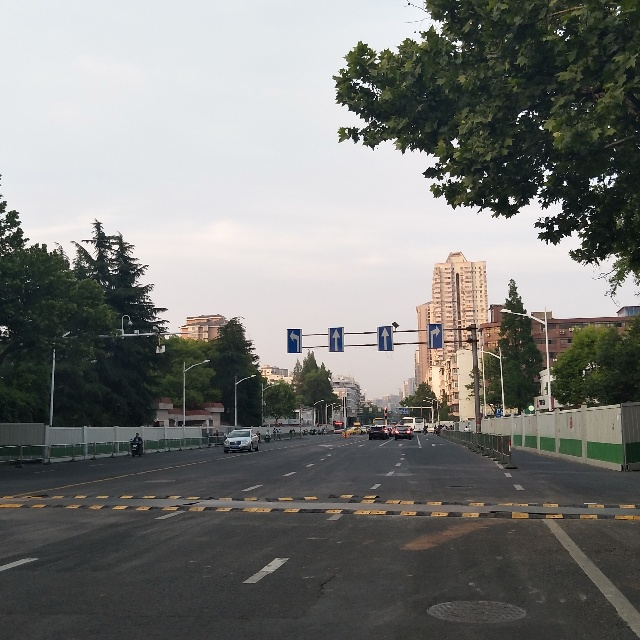left: (288, 325, 303, 354)
right: (431, 322, 445, 348)
straight: (378, 323, 393, 351), (330, 328, 347, 352)
